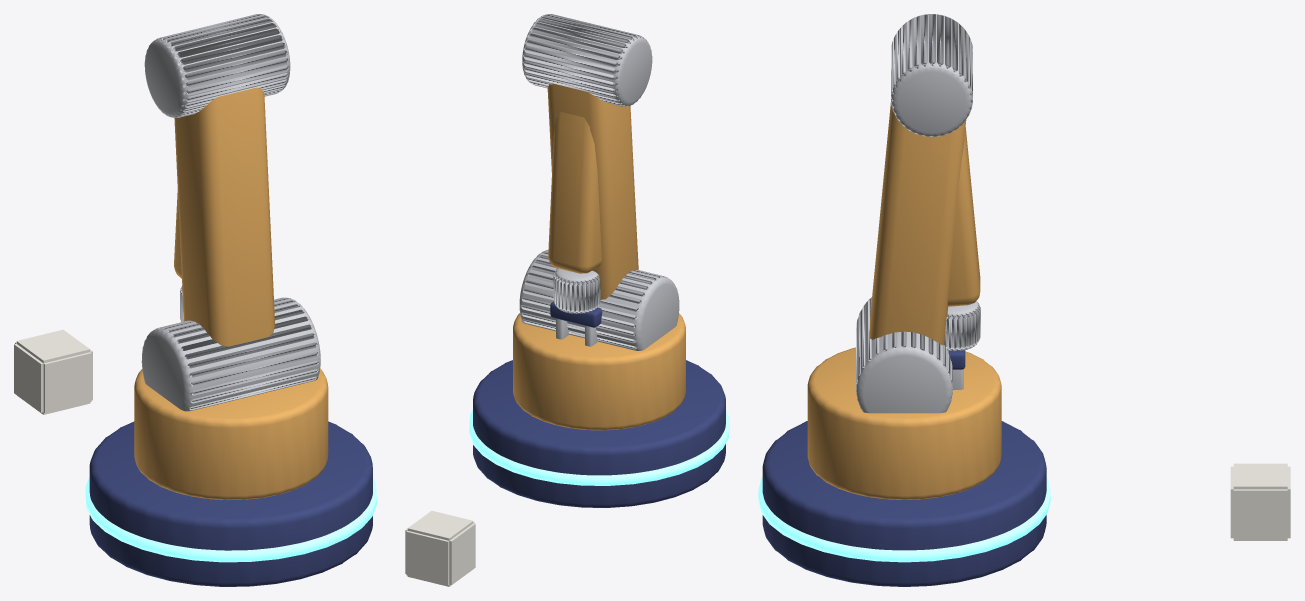
The model's file is robot-arm.glb.
The picture shows the model from 3 angles, left to right: view 1: azimuth 30°, elevation 25°; view 2: azimuth 150°, elevation 25°; view 3: azimuth 270°, elevation 25°; orthographic projection. The views are drawn at different scales.
Parts seen in each view (by area): view 1: Base, UpperArm, Turret, ShoulderJoint, ElbowJoint, PickCrate, StatusRing; view 2: Base, Turret, ElbowJoint, UpperArm, ShoulderJoint, Forearm, PickCrate, StatusRing, Wrist, GripperBase; view 3: Base, Turret, UpperArm, ElbowJoint, ShoulderJoint, PickCrate, StatusRing, Forearm, Wrist.
Part boxes in pixels (<box>): Base: <box>89,421,372,586</box>; UpperArm: <box>174,87,275,346</box>; Turret: <box>134,368,328,500</box>; ShoulderJoint: <box>141,297,320,411</box>; ElbowJoint: <box>144,14,290,117</box>; PickCrate: <box>14,329,92,414</box>; StatusRing: <box>85,477,376,562</box>; Base: <box>473,360,725,507</box>; Turret: <box>513,313,685,430</box>; ElbowJoint: <box>522,14,652,106</box>; UpperArm: <box>547,83,638,299</box>; ShoulderJoint: <box>519,250,679,350</box>; Forearm: <box>548,112,601,273</box>; PickCrate: <box>405,511,475,586</box>; StatusRing: <box>469,409,729,485</box>; Wrist: <box>553,268,600,313</box>; GripperBase: <box>550,301,602,327</box>; Base: <box>762,421,1046,586</box>; Turret: <box>807,347,1001,499</box>; UpperArm: <box>870,103,966,345</box>; ElbowJoint: <box>891,14,972,136</box>; ShoulderJoint: <box>856,297,952,413</box>; PickCrate: <box>1230,463,1290,540</box>; StatusRing: <box>758,477,1050,562</box>; Forearm: <box>947,127,980,306</box>; Wrist: <box>944,301,980,351</box>.
Size of what is drawn, in the model's own units: 0.78 by 1.45 by 1.42.
